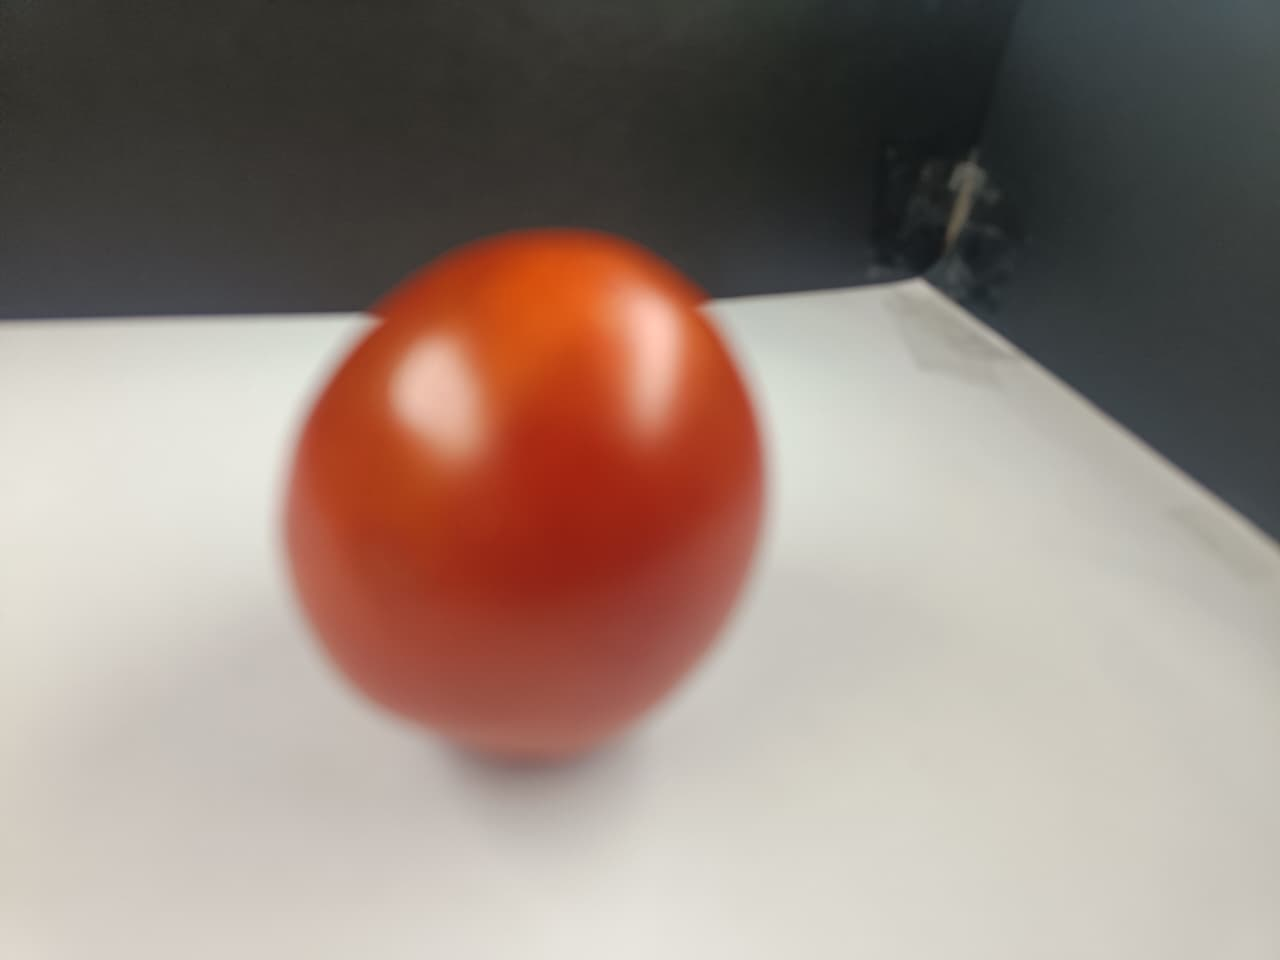ripe: (253, 227, 781, 771)
